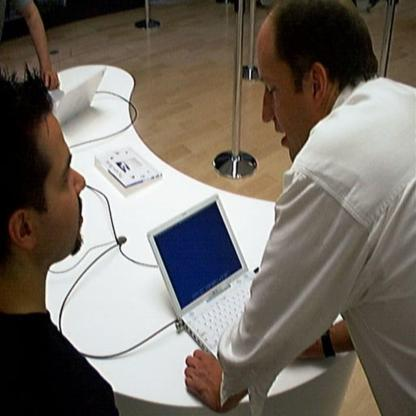board: (146, 195, 258, 360), (47, 66, 107, 124)
